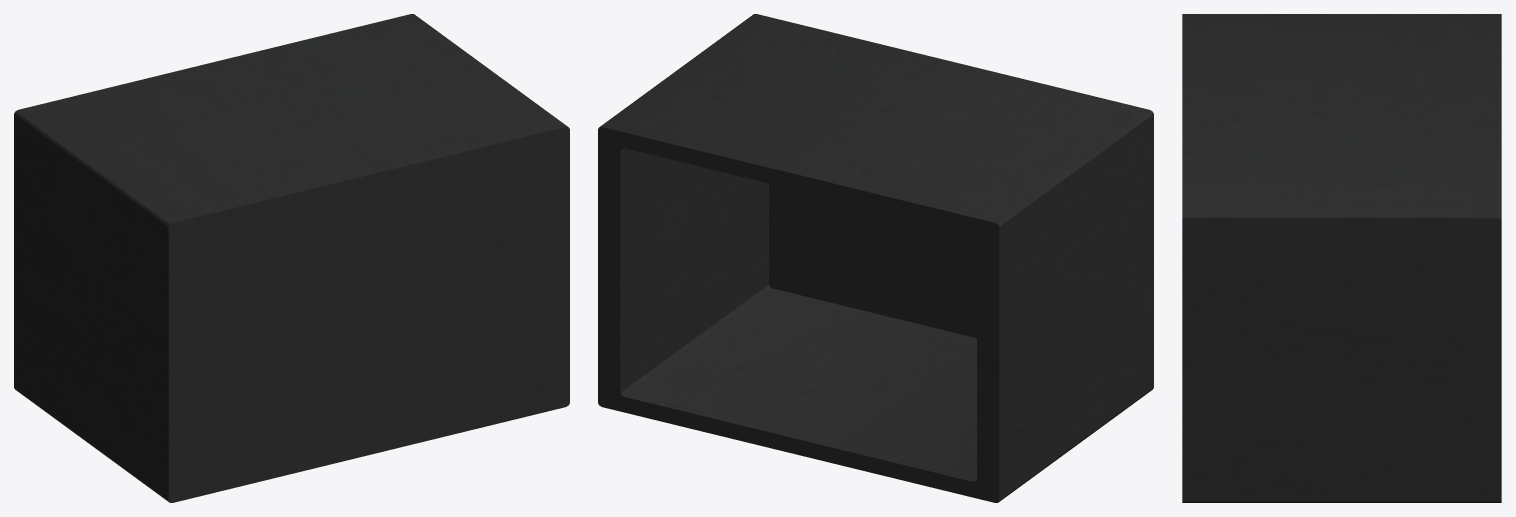
Rendered from ColorSafe_Body.fbx.
3 views of the same model, side by side, from view 1: azimuth 30°, elevation 25°; view 2: azimuth 150°, elevation 25°; view 3: azimuth 270°, elevation 25° (orthographic). The views are drawn at different scales.
Parts seen in each view (by area): view 1: Body; view 2: Body; view 3: Body.
Boxes of the visible parts, x1=… form: Body: x1=14, y1=14, x2=569, y2=502; Body: x1=598, y1=14, x2=1153, y2=502; Body: x1=1182, y1=14, x2=1501, y2=502.
Size of the model in its own units: 3 by 2 by 2.
1 material, 1 textured.
